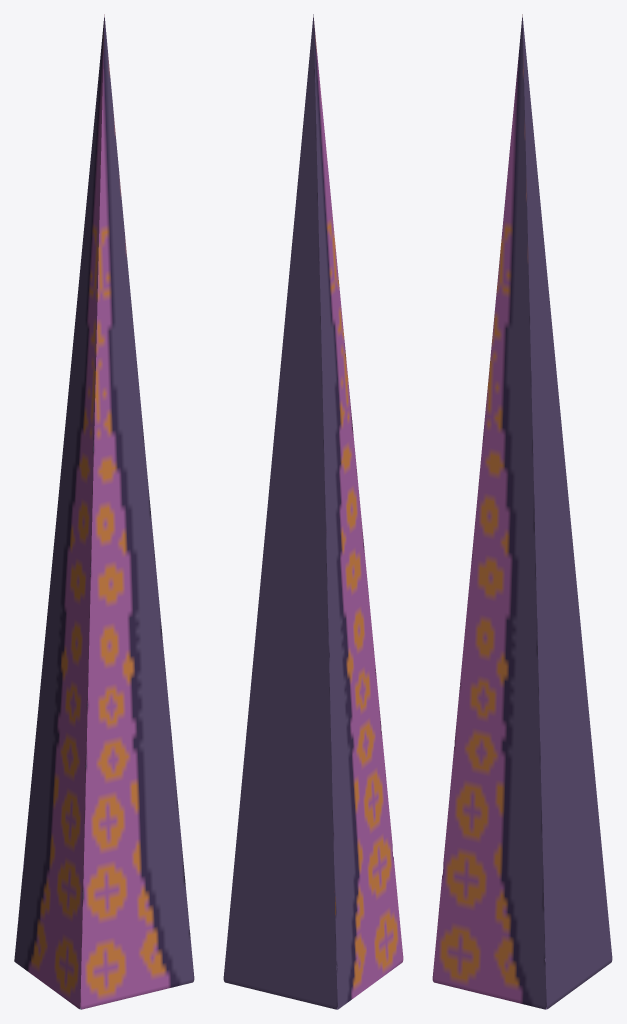
Rendered from Tentacle.fbx.
3 renders of one model, left to right at view 1: azimuth 30°, elevation 25°; view 2: azimuth 150°, elevation 25°; view 3: azimuth 330°, elevation 25°, orthographic.
Visible parts, largest first — view 1: pyramid; view 2: pyramid; view 3: pyramid.
Boxes of the visible parts, left/top/right/bottom form: pyramid: left=14, top=14, right=194, bottom=1009; pyramid: left=223, top=14, right=403, bottom=1009; pyramid: left=432, top=14, right=612, bottom=1009.
Bounding box in the file's own units: 12.5 × 100 × 12.5.
Materials: 1 (1 with a texture image).
